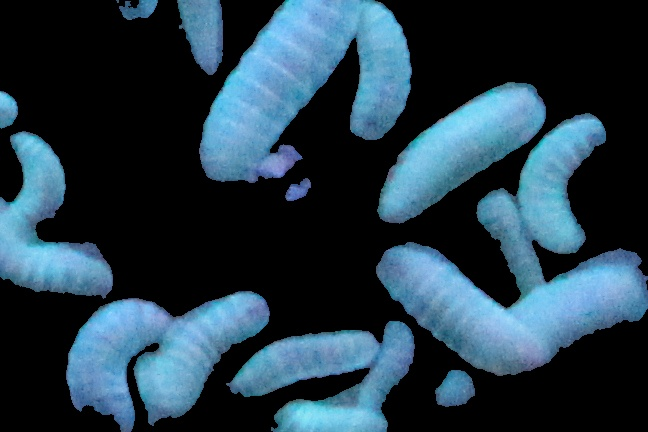larvae: (194, 1, 348, 185), (377, 79, 543, 223), (382, 248, 548, 382), (509, 248, 648, 397), (143, 294, 269, 420), (55, 296, 163, 426), (512, 112, 605, 253), (1, 190, 117, 302), (225, 329, 375, 393), (351, 5, 414, 142), (473, 189, 543, 289), (5, 128, 67, 224), (274, 395, 389, 432), (371, 322, 414, 408), (178, 1, 231, 70)
